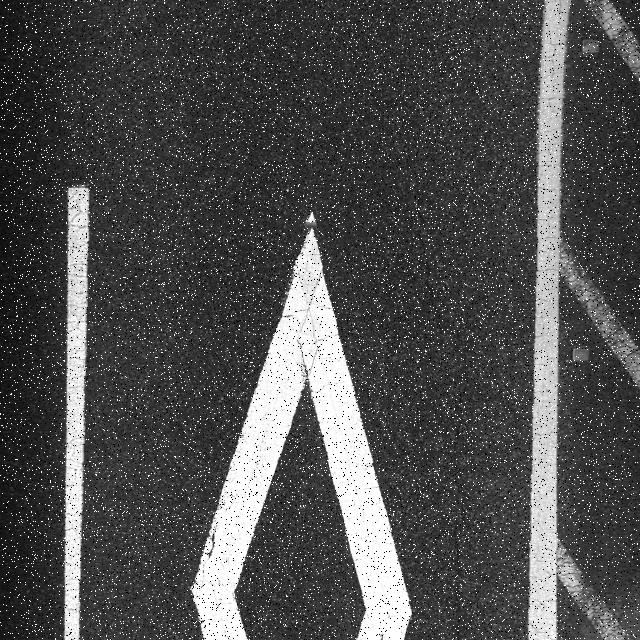diamond: (70, 206, 552, 640)
